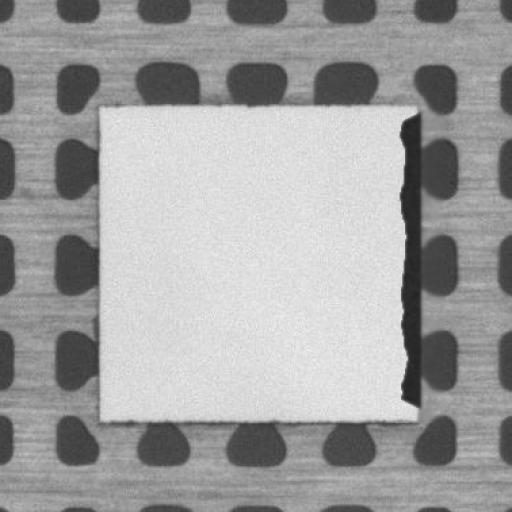DIE_BROKEN: (394, 108, 423, 416)
